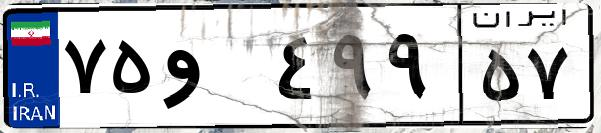4: (270, 28, 330, 110)
5: (475, 38, 525, 113), (110, 28, 158, 98)
7: (57, 26, 110, 100), (525, 38, 570, 115)
9: (385, 28, 445, 110), (330, 28, 385, 110)
و: (158, 20, 270, 120)
